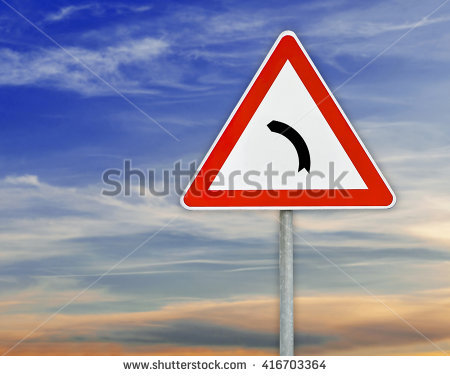Bend_to_left: (181, 29, 396, 210)
